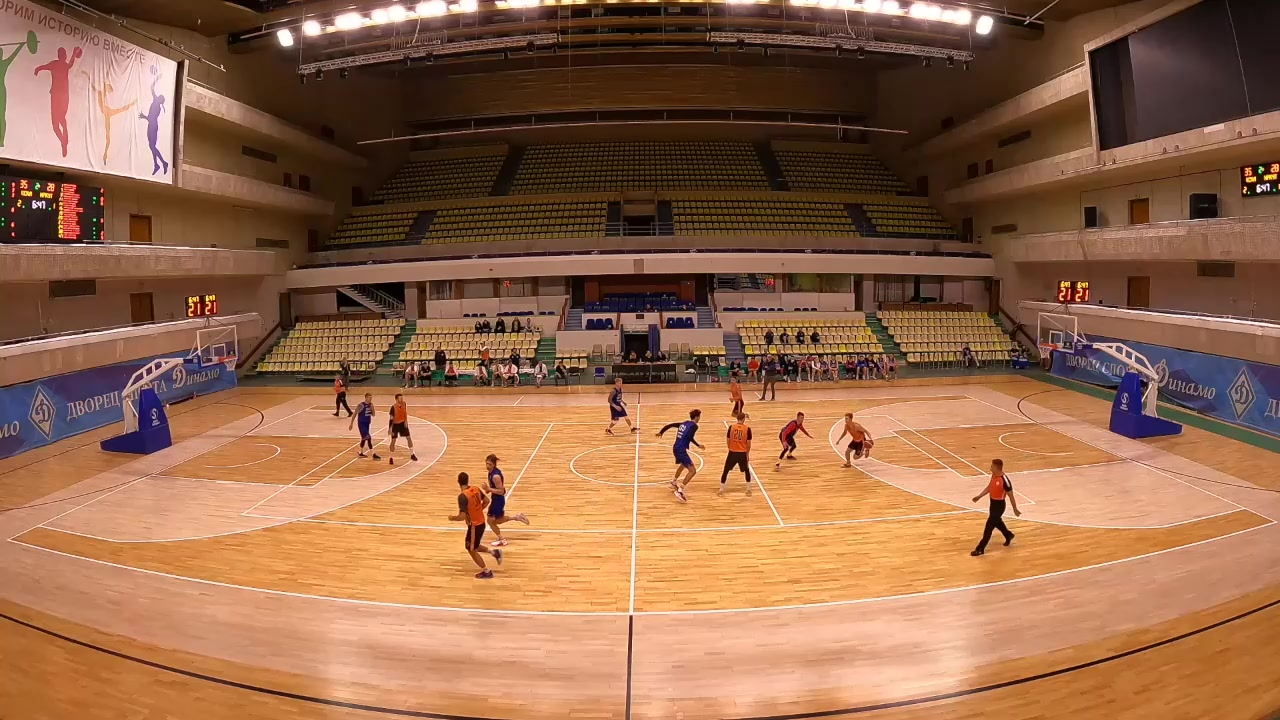basketball: (852, 430, 883, 456)
